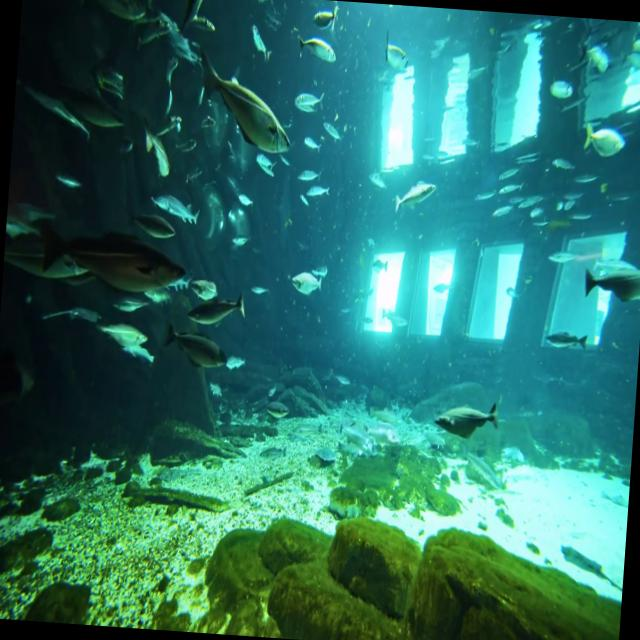fish: (27, 206, 192, 310), (186, 49, 296, 162), (157, 311, 235, 379), (428, 386, 504, 449), (187, 280, 249, 330), (574, 111, 632, 164), (144, 179, 203, 231), (375, 24, 420, 89), (580, 258, 640, 304), (140, 118, 178, 190), (572, 30, 621, 84), (396, 164, 438, 219), (292, 26, 341, 72), (173, 262, 224, 302), (544, 317, 592, 357), (290, 80, 334, 116), (289, 264, 330, 302), (302, 175, 338, 212), (546, 69, 582, 105), (303, 0, 344, 31), (304, 126, 326, 158), (294, 162, 320, 186)
